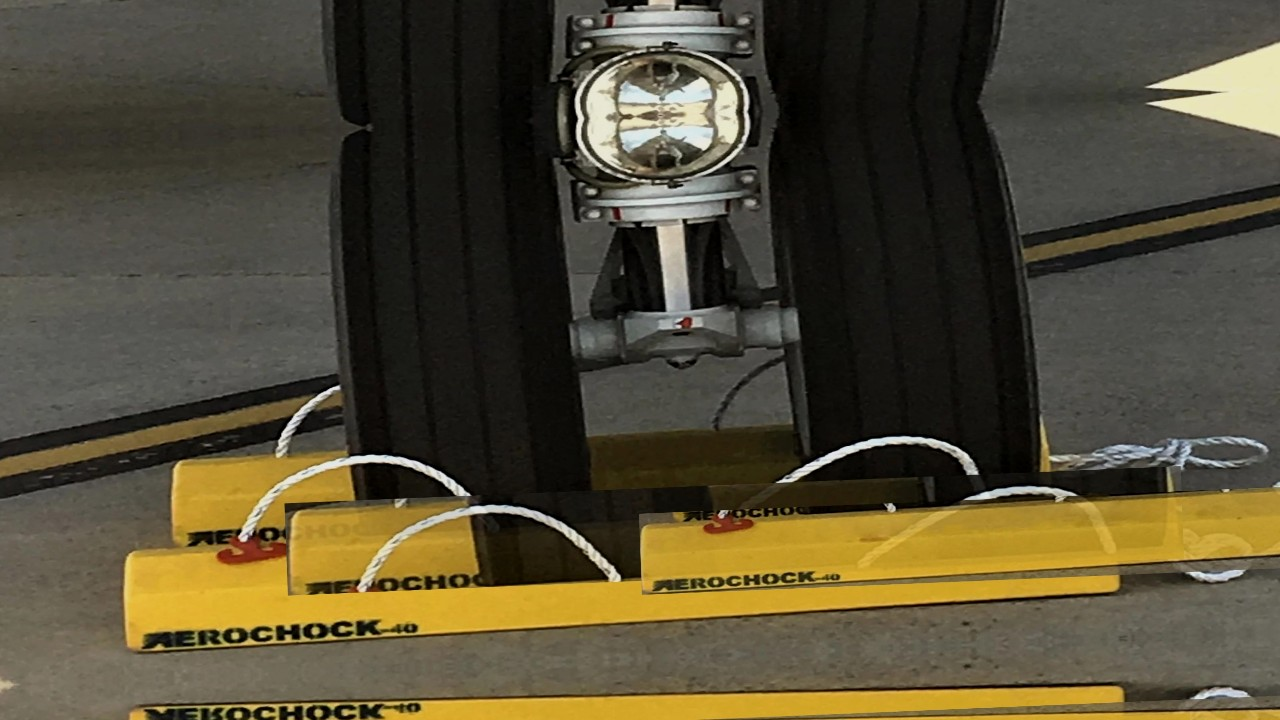chock: (122, 494, 1121, 654), (285, 466, 1184, 596), (167, 416, 1057, 545), (639, 486, 1280, 595), (128, 665, 1127, 720)
wheel: (762, 103, 1040, 510), (326, 119, 586, 536), (311, 0, 571, 129)
